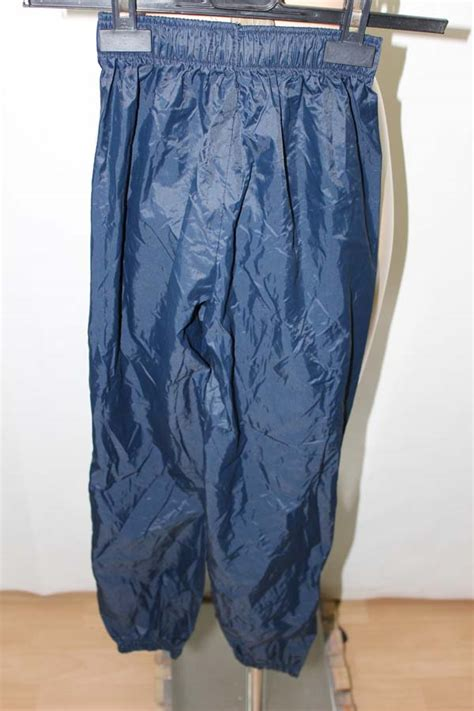nylon: (88, 7, 382, 676)
